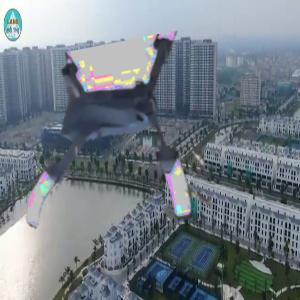drone: (4, 48, 202, 246)
